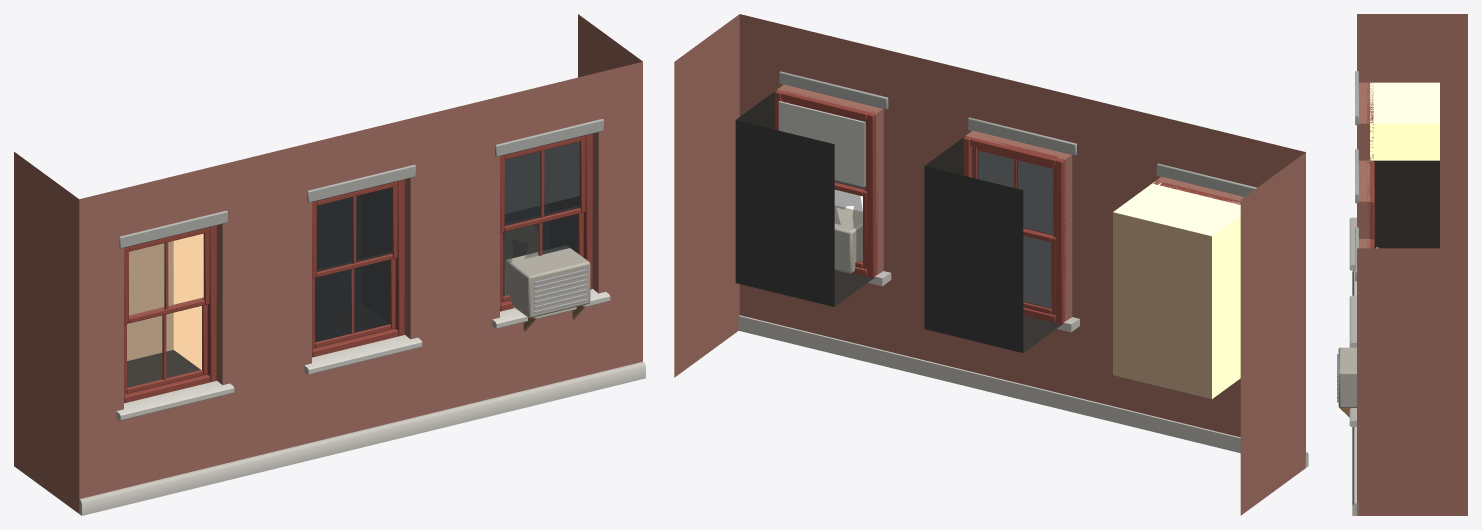
Rendered from upper_6e.glb.
The picture shows the model from 3 angles, left to right: view 1: azimuth 30°, elevation 25°; view 2: azimuth 150°, elevation 25°; view 3: azimuth 270°, elevation 25°; orthographic projection. The views are drawn at different scales.
Visible parts, largest first — view 1: upper_6e; view 2: upper_6e; view 3: upper_6e.
Boxes of the visible parts, x1=… form: upper_6e: x1=14, y1=14, x2=645, y2=515; upper_6e: x1=674, y1=14, x2=1308, y2=515; upper_6e: x1=1337, y1=14, x2=1467, y2=515.
Bounding box in the file's own units: 6 × 3.2 × 1.42.
